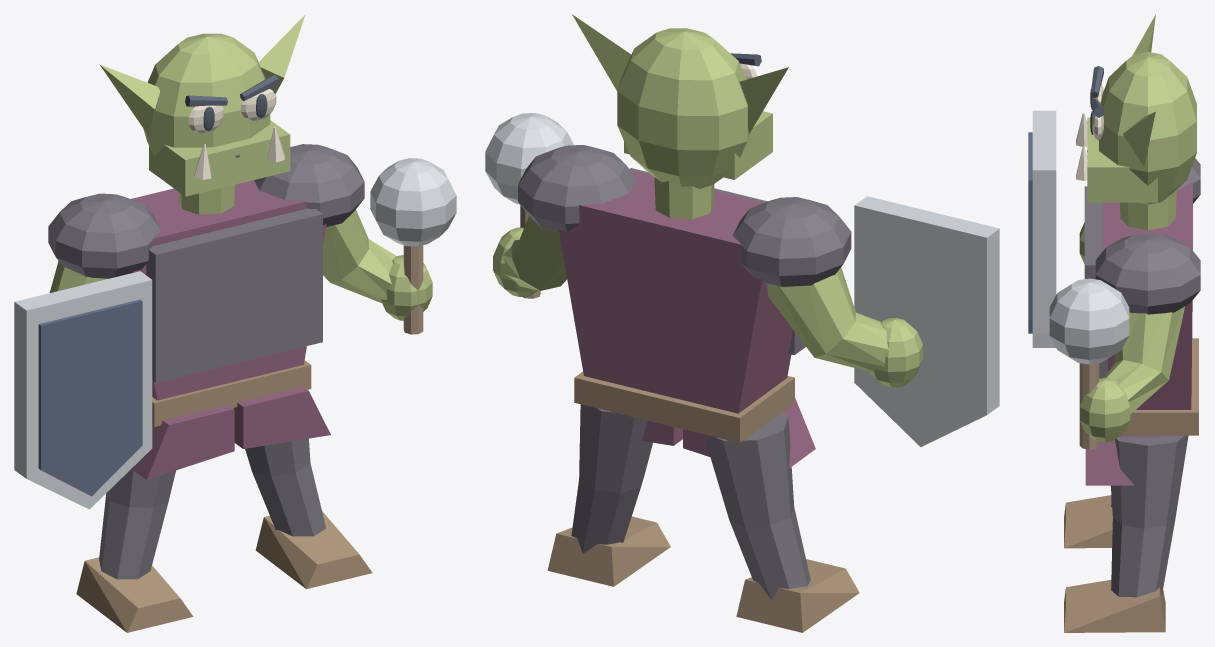
Rendered from shield-guard.glb.
The picture shows the model from 3 angles, left to right: view 1: azimuth 30°, elevation 25°; view 2: azimuth 150°, elevation 25°; view 3: azimuth 270°, elevation 25°; orthographic projection. The views are drawn at different scales.
Visible parts, largest first — view 1: breastplate, shield_face, shield_rim, head, torso, shoulder_plate_-1, leg_-1, mace_head, jaw, leg_1, shoulder_plate_1, foot_-1 (+12 smaller); view 2: torso, shield_rim, head, leg_-1, leg_1, shoulder_plate_-1, arm_-1, shoulder_plate_1, belt, foot_-1, foot_1, mace_head (+9 smaller); view 3: head, leg_1, shoulder_plate_1, shield_rim, mace_head, torso, arm_1, foot_1, jaw, hand_1, foot_-1, belt (+11 smaller).
Boxes of the visible parts, x1,y1,x2,y2 form: breastplate: (146, 208, 322, 382); shield_face: (38, 299, 142, 496); shield_rim: (14, 271, 152, 509); head: (143, 33, 270, 156); torso: (131, 180, 326, 400); shoulder_plate_-1: (48, 193, 160, 278); leg_-1: (99, 469, 175, 579); mace_head: (370, 158, 456, 246); jaw: (149, 120, 290, 196); leg_1: (245, 438, 326, 536); shoulder_plate_1: (254, 144, 364, 227); foot_-1: (76, 557, 193, 632); torso: (559, 170, 792, 413); shield_rim: (854, 196, 999, 446); head: (617, 28, 749, 188); leg_-1: (703, 413, 810, 599); leg_1: (571, 404, 652, 553); shoulder_plate_-1: (732, 197, 851, 287); arm_-1: (767, 267, 888, 372); shoulder_plate_1: (518, 145, 636, 232); belt: (574, 371, 794, 442); foot_-1: (736, 559, 859, 632); foot_1: (547, 516, 670, 586); mace_head: (485, 113, 573, 204); head: (1099, 52, 1196, 204); leg_1: (1111, 435, 1188, 597); shoulder_plate_1: (1095, 233, 1200, 314); shield_rim: (1032, 110, 1056, 347); mace_head: (1049, 278, 1129, 364); torso: (1103, 182, 1192, 409); arm_1: (1104, 306, 1184, 414); foot_1: (1064, 580, 1165, 632); jaw: (1087, 117, 1157, 202); hand_1: (1079, 378, 1130, 442); foot_-1: (1064, 495, 1112, 548); belt: (1121, 338, 1198, 435).
Size of the model in its own units: 1.86 by 2.1 by 0.6335.
